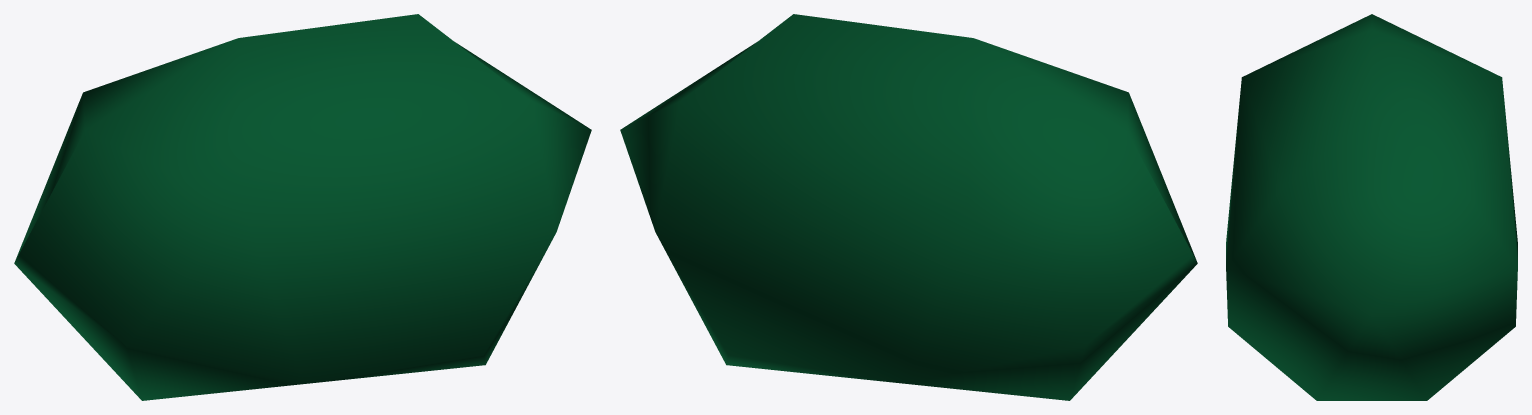
File: Bush9.fbx
3 renders of one model, left to right at view 1: azimuth 30°, elevation 25°; view 2: azimuth 150°, elevation 25°; view 3: azimuth 270°, elevation 25°, orthographic. The views are drawn at different scales.
Parts seen in each view (by area): view 1: Bush9; view 2: Bush9; view 3: Bush9.
Boxes of the visible parts, x1=… form: Bush9: x1=14, y1=14, x2=591, y2=400; Bush9: x1=620, y1=14, x2=1197, y2=400; Bush9: x1=1226, y1=14, x2=1517, y2=400.
Bounding box in the file's own units: 52.3 × 30.88 × 28.49.
